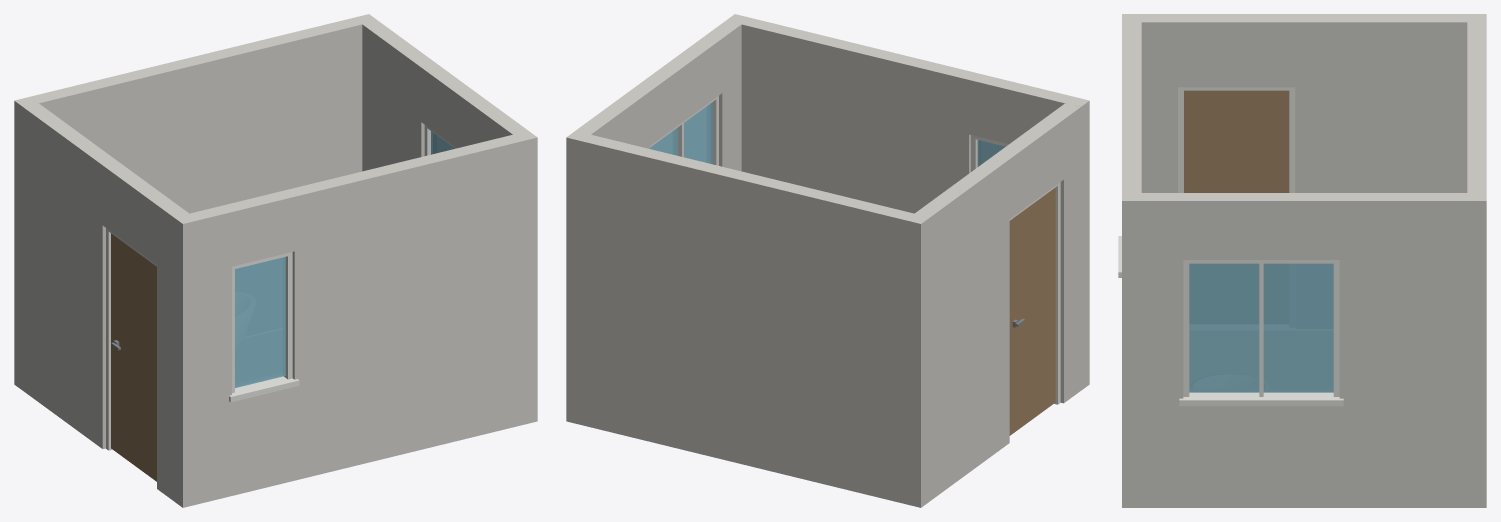
Rendered from oursv11b.glb.
The picture shows the model from 3 angles, left to right: view 1: azimuth 30°, elevation 25°; view 2: azimuth 150°, elevation 25°; view 3: azimuth 270°, elevation 25°; orthographic projection. The views are drawn at different scales.
Parts seen in each view (by area): view 1: wall|scenesmith_060__R00|0, wall|scenesmith_060__R00|1, wall|scenesmith_060__R00|2, wall|scenesmith_060__R00|3, wall|scenesmith_060__R00|2 Door 0 | wood leaf, wall|scenesmith_060__R00|0 Window 0 | glazing, wall|scenesmith_060__R00|0 Window 0 | jamb, wall|scenesmith_060__R00|2 Door 0 | jamb; view 2: wall|scenesmith_060__R00|1, wall|scenesmith_060__R00|0, wall|scenesmith_060__R00|2, wall|scenesmith_060__R00|3, wall|scenesmith_060__R00|2 Door 0 | wood leaf, wall|scenesmith_060__R00|3 Window 0 | glazing, wall|scenesmith_060__R00|2 Door 0 | jamb, wall|scenesmith_060__R00|3 Window 0 | jamb; view 3: wall|scenesmith_060__R00|3, wall|scenesmith_060__R00|2, wall|scenesmith_060__R00|3 Window 0 | glazing, wall|scenesmith_060__R00|2 Door 0 | wood leaf, wall|scenesmith_060__R00|1, wall|scenesmith_060__R00|0, wall|scenesmith_060__R00|3 Window 0 | jamb, wall|scenesmith_060__R00|2 Door 0 | jamb.
Boxes of the visible parts, x1,y1,x2,y2 form: wall|scenesmith_060__R00|0: [174, 135, 521, 507]; wall|scenesmith_060__R00|1: [14, 14, 377, 390]; wall|scenesmith_060__R00|2: [23, 103, 198, 507]; wall|scenesmith_060__R00|3: [362, 20, 537, 424]; wall|scenesmith_060__R00|2 Door 0 | wood leaf: [111, 233, 156, 481]; wall|scenesmith_060__R00|0 Window 0 | glazing: [235, 256, 285, 387]; wall|scenesmith_060__R00|0 Window 0 | jamb: [229, 252, 299, 402]; wall|scenesmith_060__R00|2 Door 0 | jamb: [106, 228, 156, 450]; wall|scenesmith_060__R00|1: [566, 131, 929, 507]; wall|scenesmith_060__R00|0: [741, 18, 1089, 390]; wall|scenesmith_060__R00|2: [905, 103, 1080, 507]; wall|scenesmith_060__R00|3: [575, 14, 750, 171]; wall|scenesmith_060__R00|2 Door 0 | wood leaf: [1009, 187, 1055, 435]; wall|scenesmith_060__R00|3 Window 0 | glazing: [650, 102, 712, 164]; wall|scenesmith_060__R00|2 Door 0 | jamb: [1009, 182, 1060, 404]; wall|scenesmith_060__R00|3 Window 0 | jamb: [650, 96, 718, 165]; wall|scenesmith_060__R00|3: [1122, 193, 1467, 507]; wall|scenesmith_060__R00|2: [1141, 14, 1467, 192]; wall|scenesmith_060__R00|3 Window 0 | glazing: [1189, 263, 1333, 392]; wall|scenesmith_060__R00|2 Door 0 | wood leaf: [1184, 90, 1289, 192]; wall|scenesmith_060__R00|1: [1467, 14, 1486, 507]; wall|scenesmith_060__R00|0: [1122, 14, 1141, 507]; wall|scenesmith_060__R00|3 Window 0 | jamb: [1179, 260, 1343, 406]; wall|scenesmith_060__R00|2 Door 0 | jamb: [1178, 87, 1295, 192].
Bounding box in the file's own units: 3.43 × 2.61 × 2.83.
